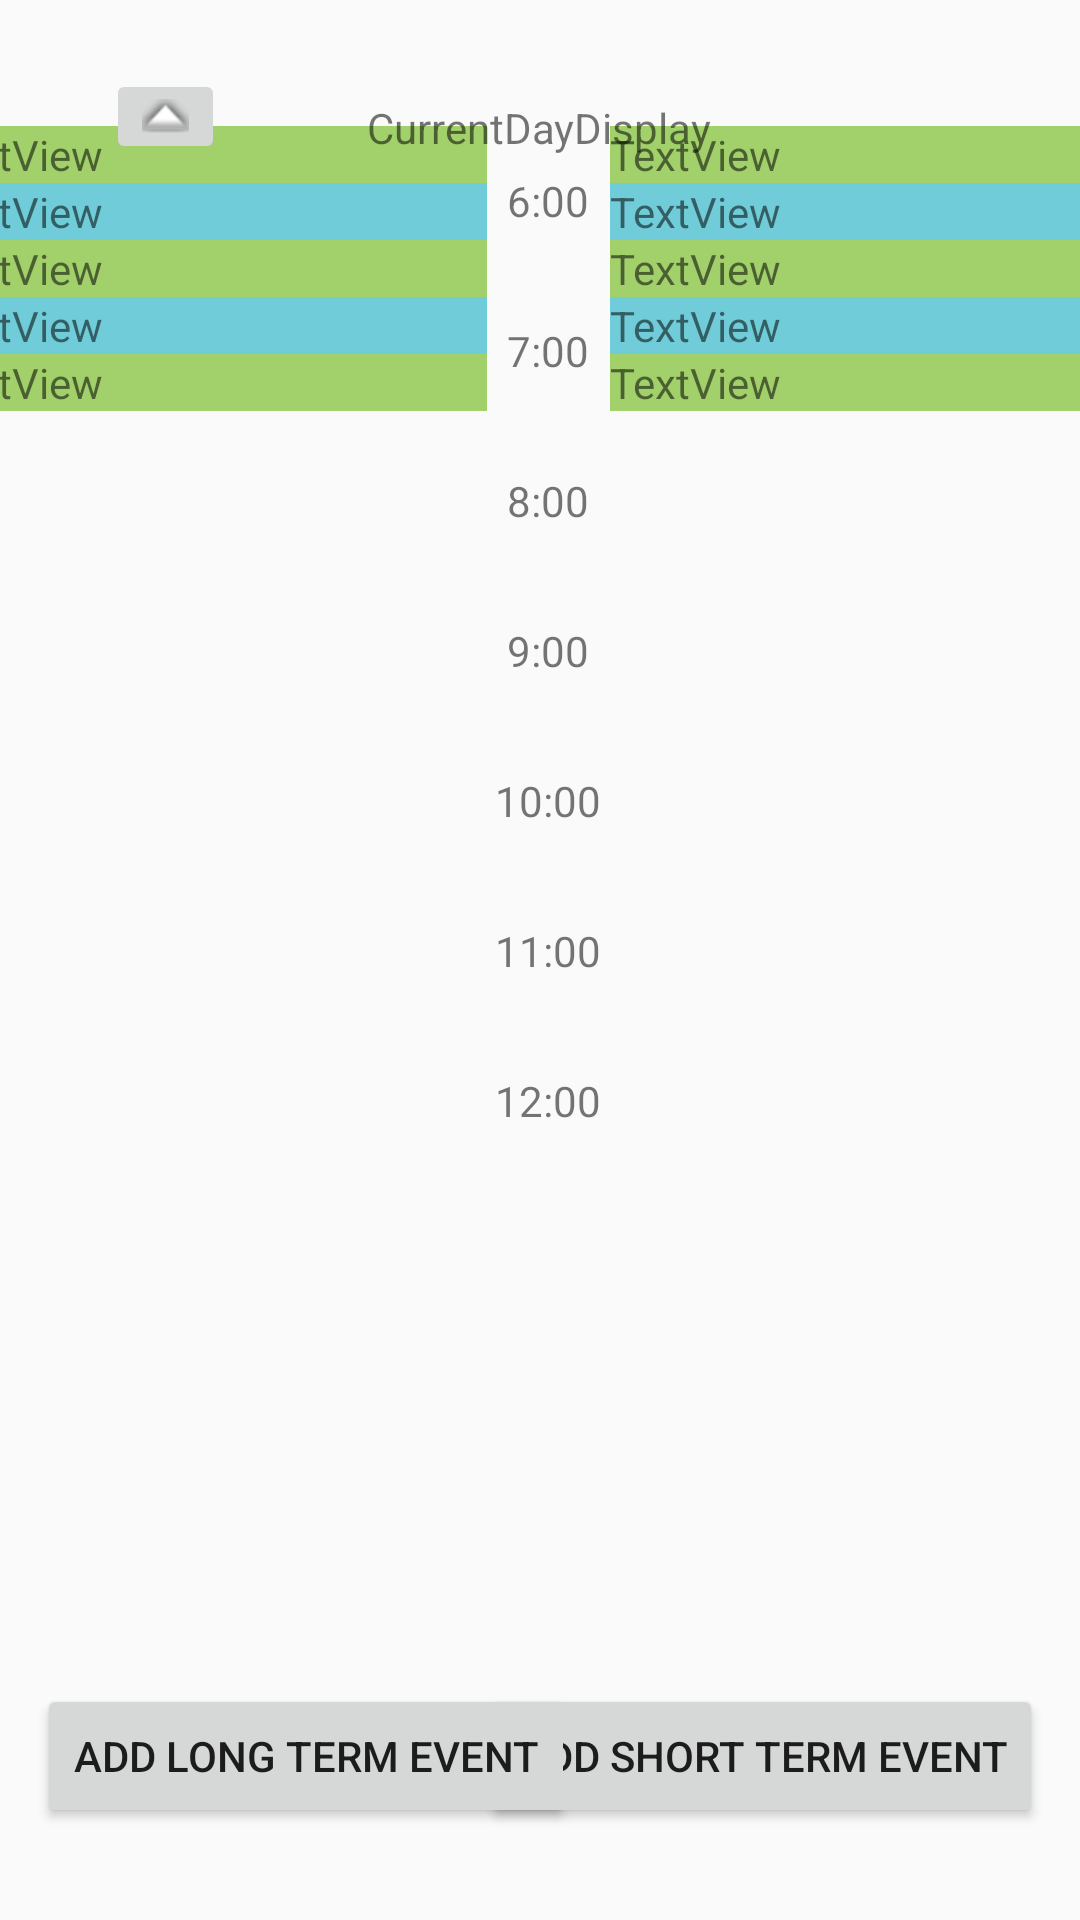

Screen size 1080px x 1920px. Icon name, then its center in pixels as (x,y):
arrow up float: (165,116)
